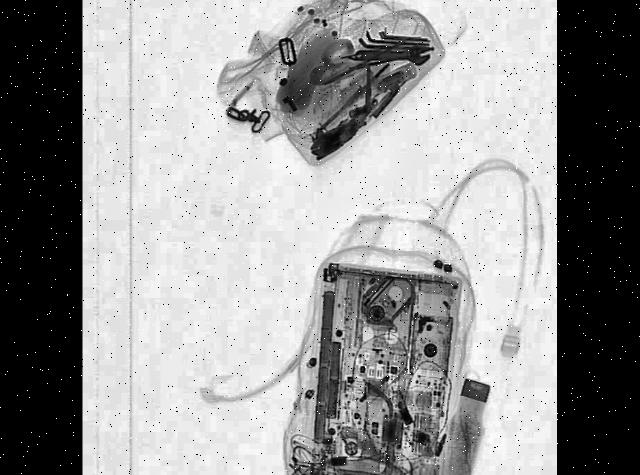Wrench: (356, 40, 431, 65)
